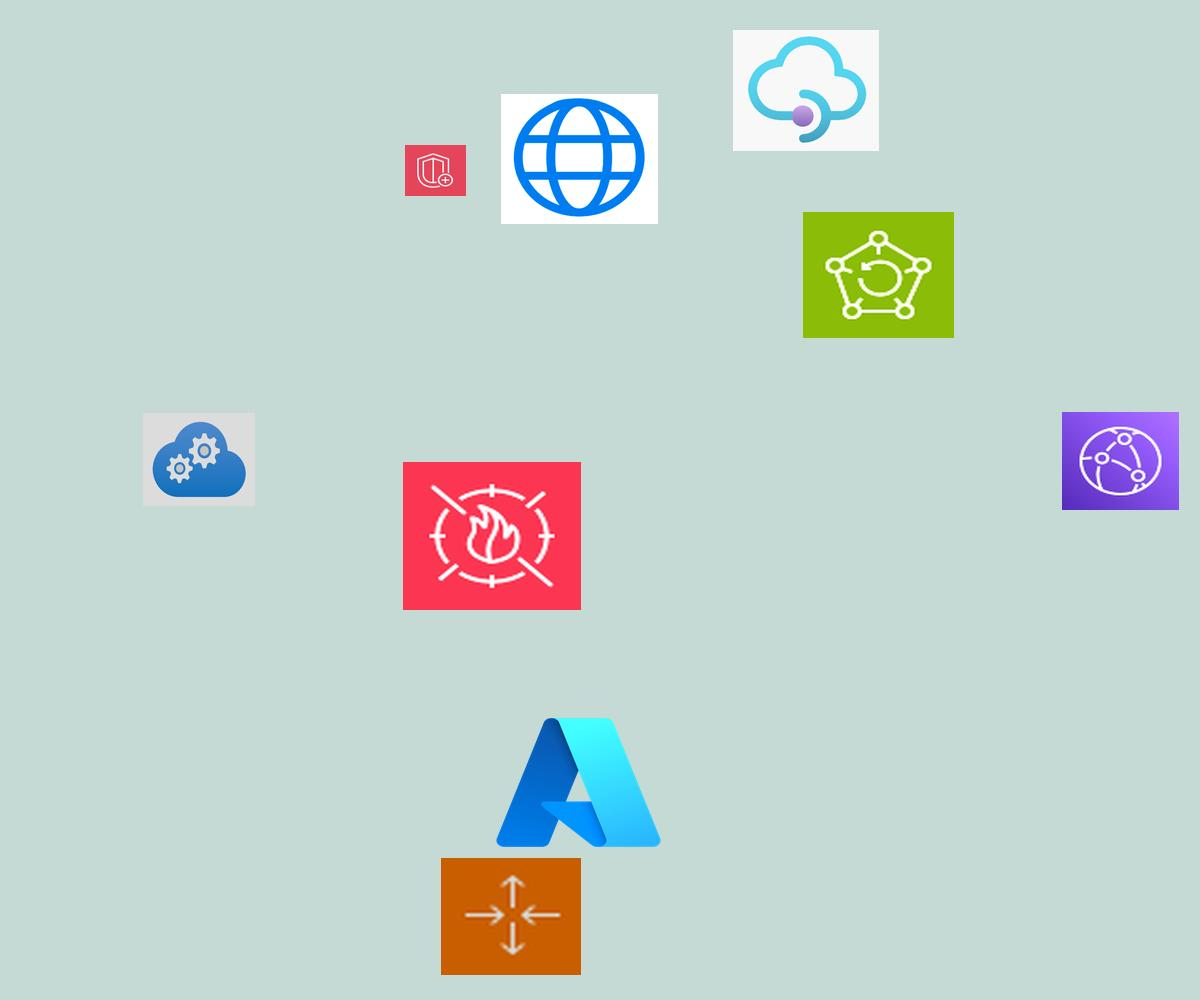AWS-Backup: (803, 212, 954, 338)
AWS-CloudFront: (1062, 412, 1179, 510)
AWS-Scaling-group: (441, 858, 581, 975)
AWS-Shield: (405, 145, 466, 196)
AWS-WAF: (403, 462, 581, 610)
Azure_api_gateway: (733, 30, 879, 151)
Azure_cloud_services: (143, 413, 255, 506)
Azure_http: (501, 94, 658, 224)
Azure_services: (489, 708, 668, 857)
